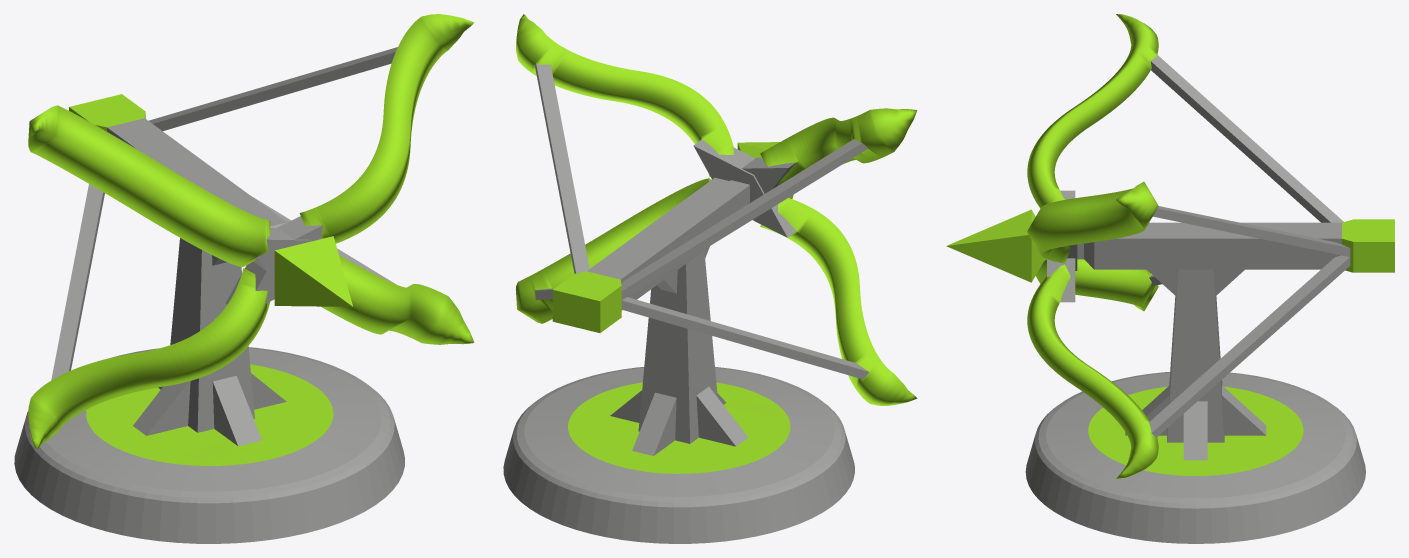
Rendered from ballista_upgraded.fbx.
3 renders of one model, left to right at view 1: azimuth 30°, elevation 25°; view 2: azimuth 150°, elevation 25°; view 3: azimuth 270°, elevation 25°, orthographic. The views are drawn at different scales.
Parts seen in each view (by area): view 1: Circle; view 2: Circle; view 3: Circle.
Boxes of the visible parts, x1=… form: Circle: x1=14, y1=14, x2=474, y2=543; Circle: x1=503, y1=14, x2=917, y2=543; Circle: x1=946, y1=14, x2=1394, y2=543.
Bounding box in the file's own units: 336 × 312 × 343.
Materials: 1 (1 with a texture image).
